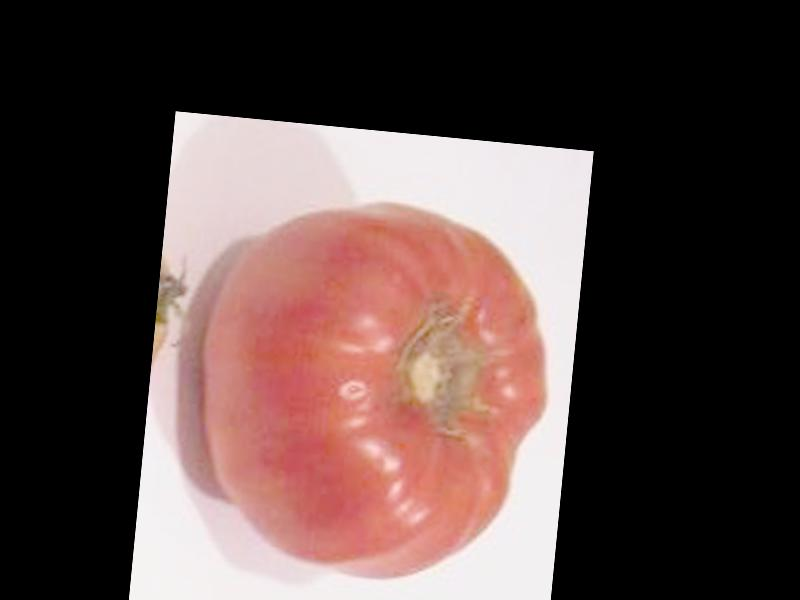Tomato: (190, 189, 561, 588)
